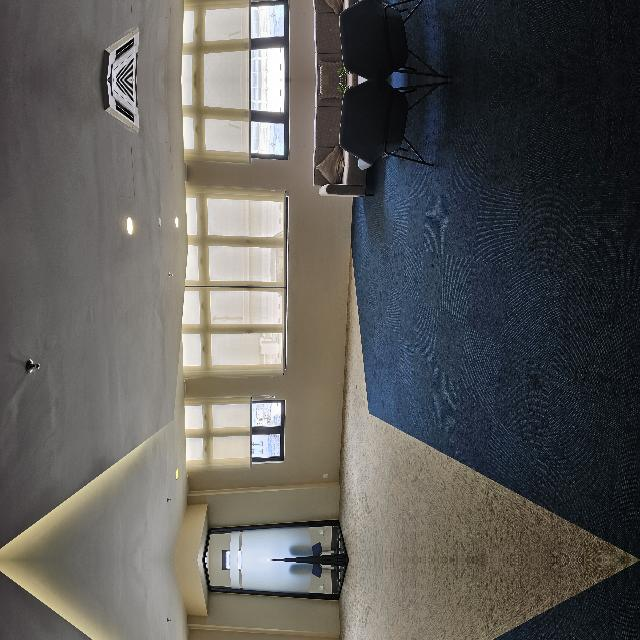obstacle: (364, 388, 480, 522), (364, 598, 480, 640)
